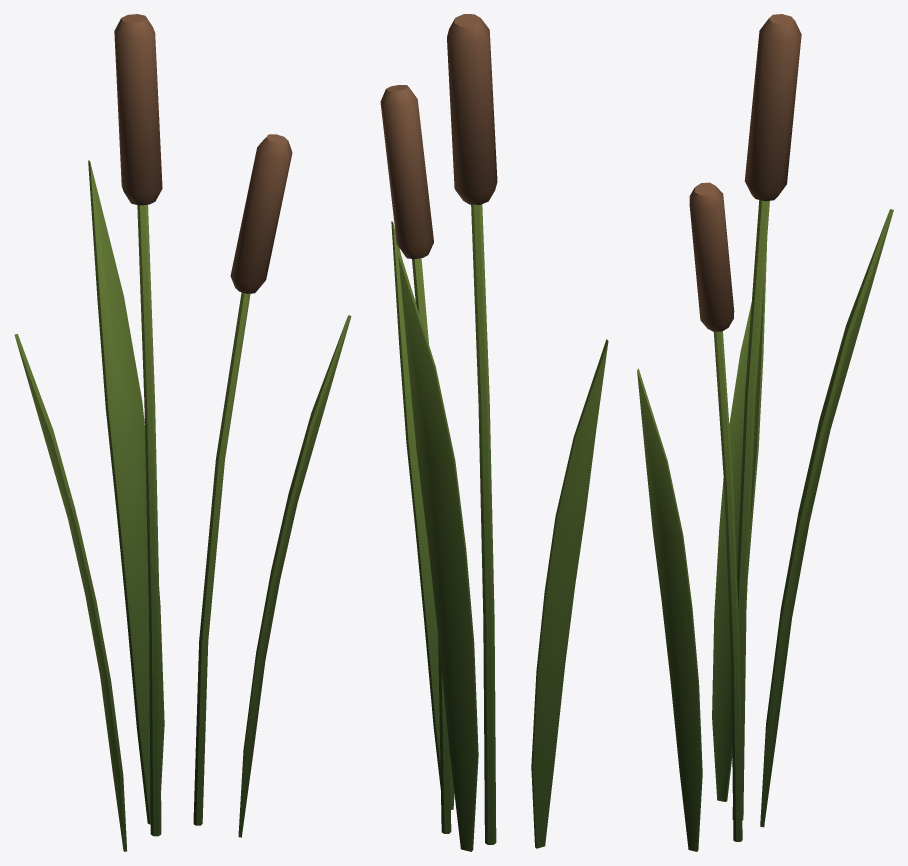
Rendered from PondPlant_05.fbx.
3 views of the same model, side by side, from view 1: azimuth 30°, elevation 25°; view 2: azimuth 150°, elevation 25°; view 3: azimuth 270°, elevation 25° (orthographic). The views are drawn at different scales.
Parts seen in each view (by area): view 1: PondPlant_05_LOD0; view 2: PondPlant_05_LOD0; view 3: PondPlant_05_LOD0.
Boxes of the visible parts, left/top/right/bottom form: PondPlant_05_LOD0: left=14, top=14, right=351, bottom=851; PondPlant_05_LOD0: left=380, top=14, right=608, bottom=851; PondPlant_05_LOD0: left=637, top=14, right=893, bottom=851.
Size of what is drawn, in the model's own units: 0.252 by 0.709 by 0.2059.
